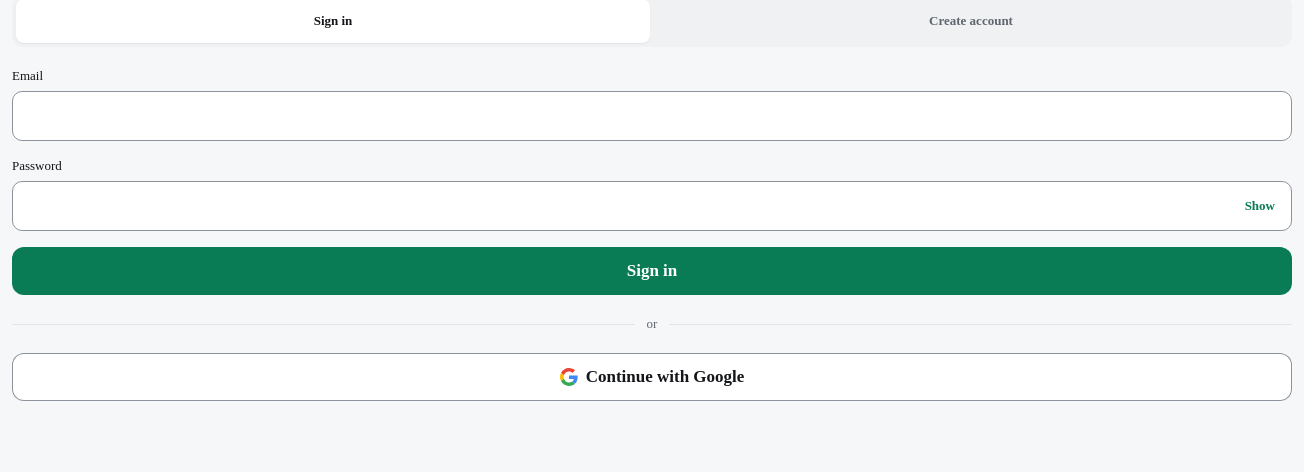
Test: LoginForm › says so when Google is not enabled in Supabase yet
The image size is (1304, 472).
Click the button "Continue with Google" at (652, 377), box [12,353,1292,401]
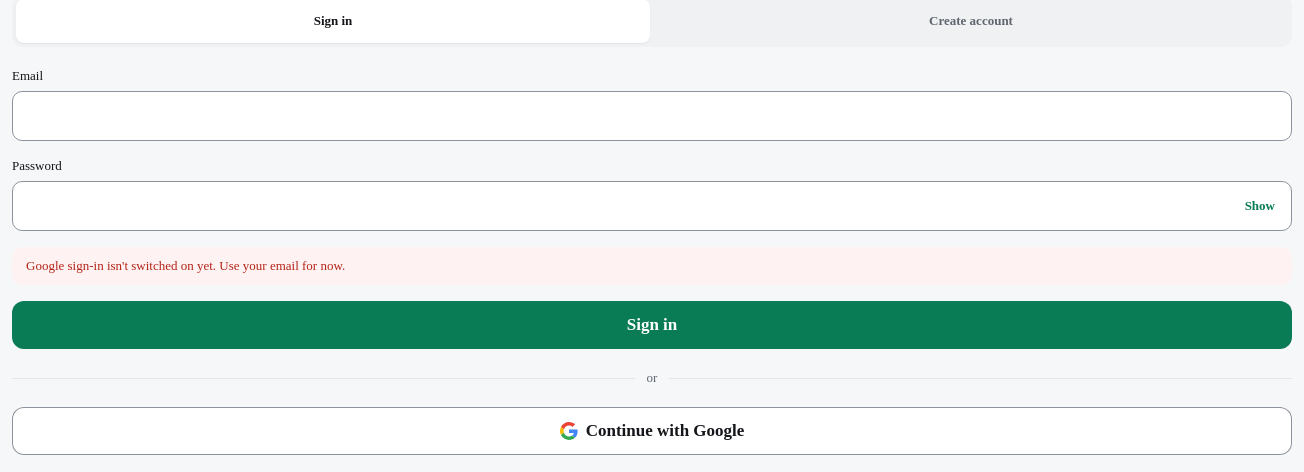
Now the message shows "Google sign-in isn't switched on yet", box [26,258,345,273]
